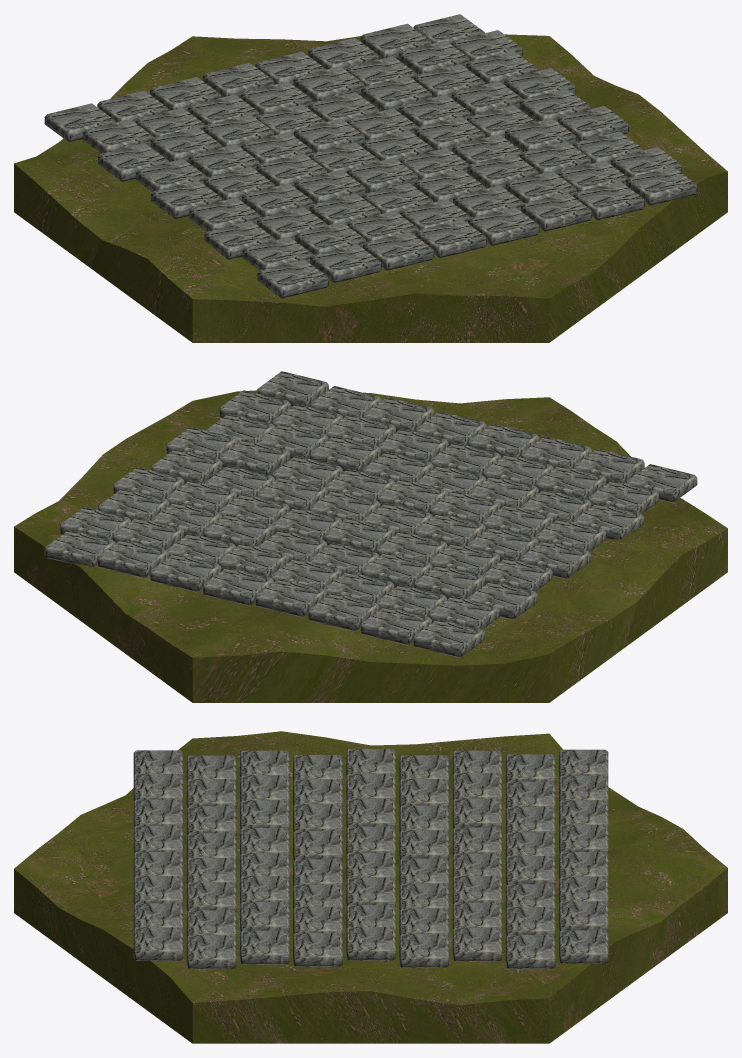
File: env-terrain-city-mobile.glb
3 renders of one model, top to bottom at view 1: azimuth 30°, elevation 25°; view 2: azimuth 150°, elevation 25°; view 3: azimuth 270°, elevation 25°, orthographic.
Visible parts, largest first — view 1: terrain city · authored textured miniature; view 2: terrain city · authored textured miniature; view 3: terrain city · authored textured miniature.
Boxes of the visible parts, box(x1,y1,x2,y2) form: terrain city · authored textured miniature: box(14, 14, 727, 342); terrain city · authored textured miniature: box(14, 371, 727, 702); terrain city · authored textured miniature: box(14, 731, 727, 1043).
Size of the model in its own units: 1.63 by 0.1893 by 1.88.
2 materials, 2 textured.
